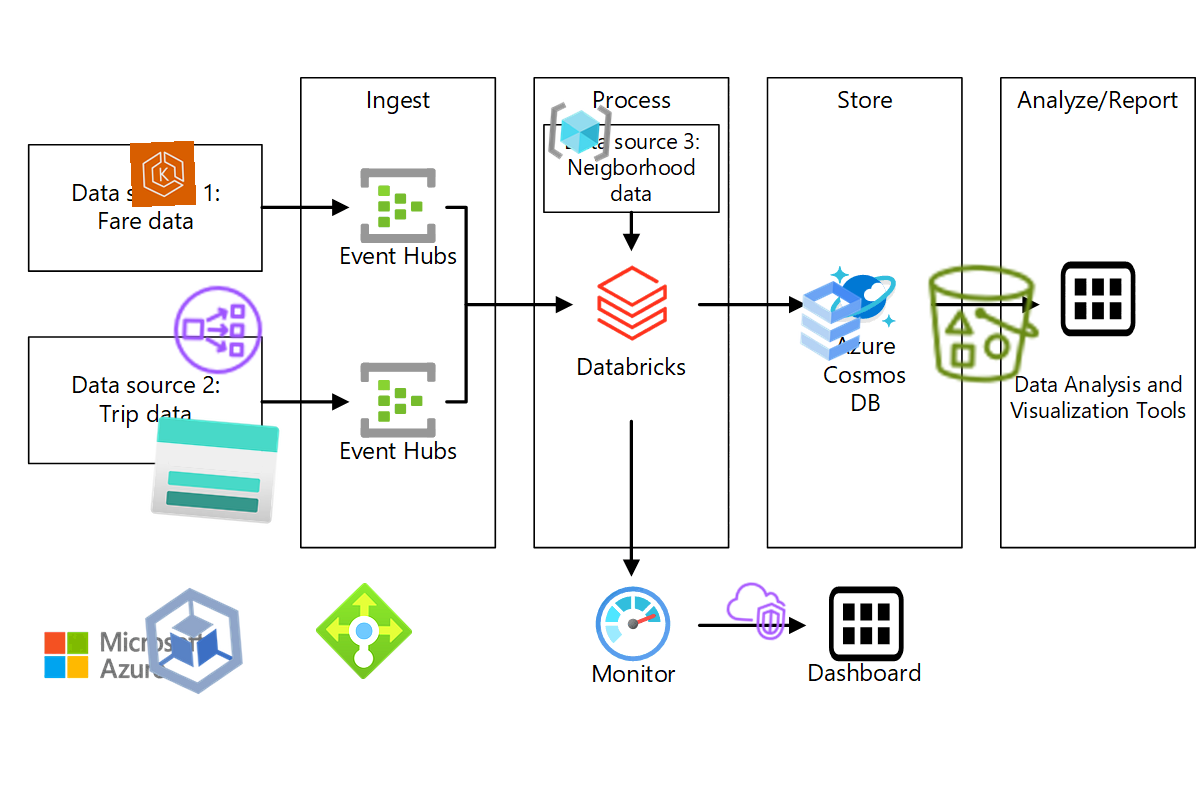aws_amazon_elastic_kubernetes_service: (129, 140, 197, 208)
aws_elastic_load_balancing_network_load_balancer: (168, 280, 268, 380)
aws_simple_storage_service_bucket_with_objects: (916, 257, 1050, 391)
aws_vpc_virtual_private_cloud_vpc: (721, 576, 791, 646)
azure_load_balancers: (315, 582, 413, 680)
azure_resource_groups: (545, 97, 615, 167)
azure_storage_accounts: (145, 400, 285, 540)
gcp_cloud_sql: (780, 270, 882, 372)
gcp_google_kubernetes_engine: (124, 571, 264, 711)
